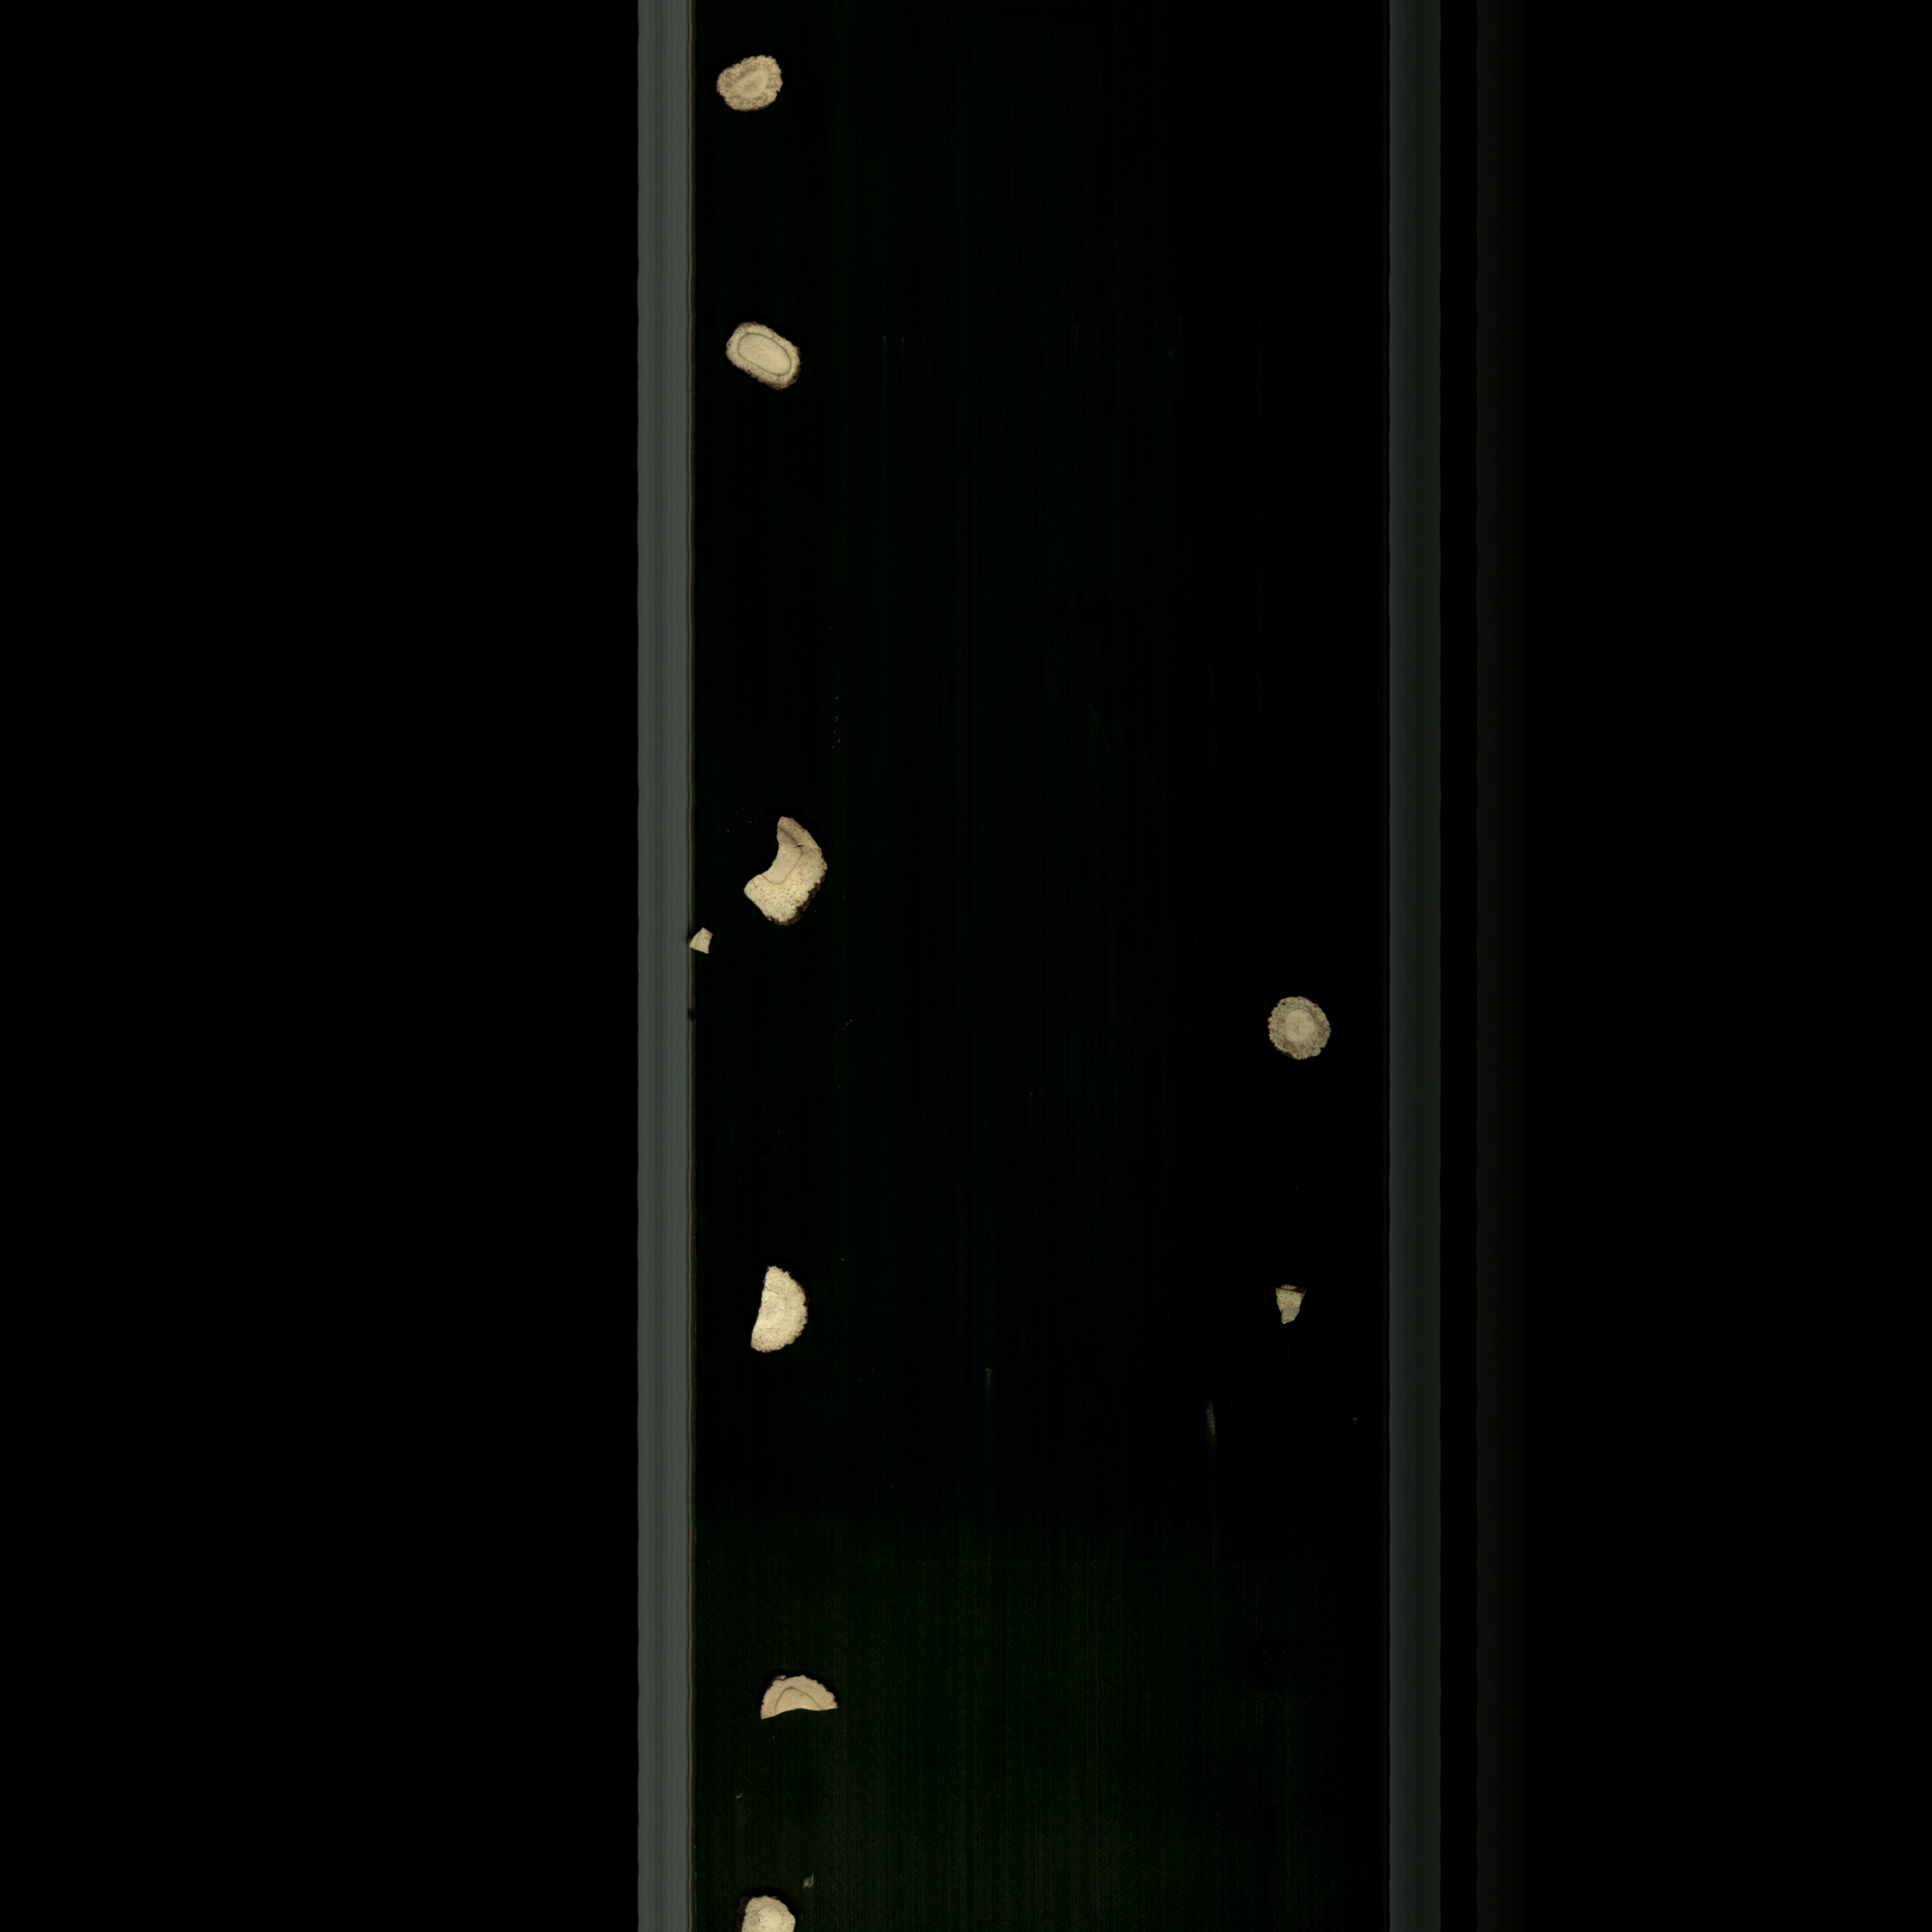debris: (743, 796, 844, 943), (738, 1254, 846, 1368), (741, 1663, 865, 1732)
distortion: (718, 290, 823, 412)
dreg: (686, 911, 738, 982)
moldy: (699, 27, 819, 138), (1258, 977, 1355, 1099), (1260, 1251, 1330, 1359)
